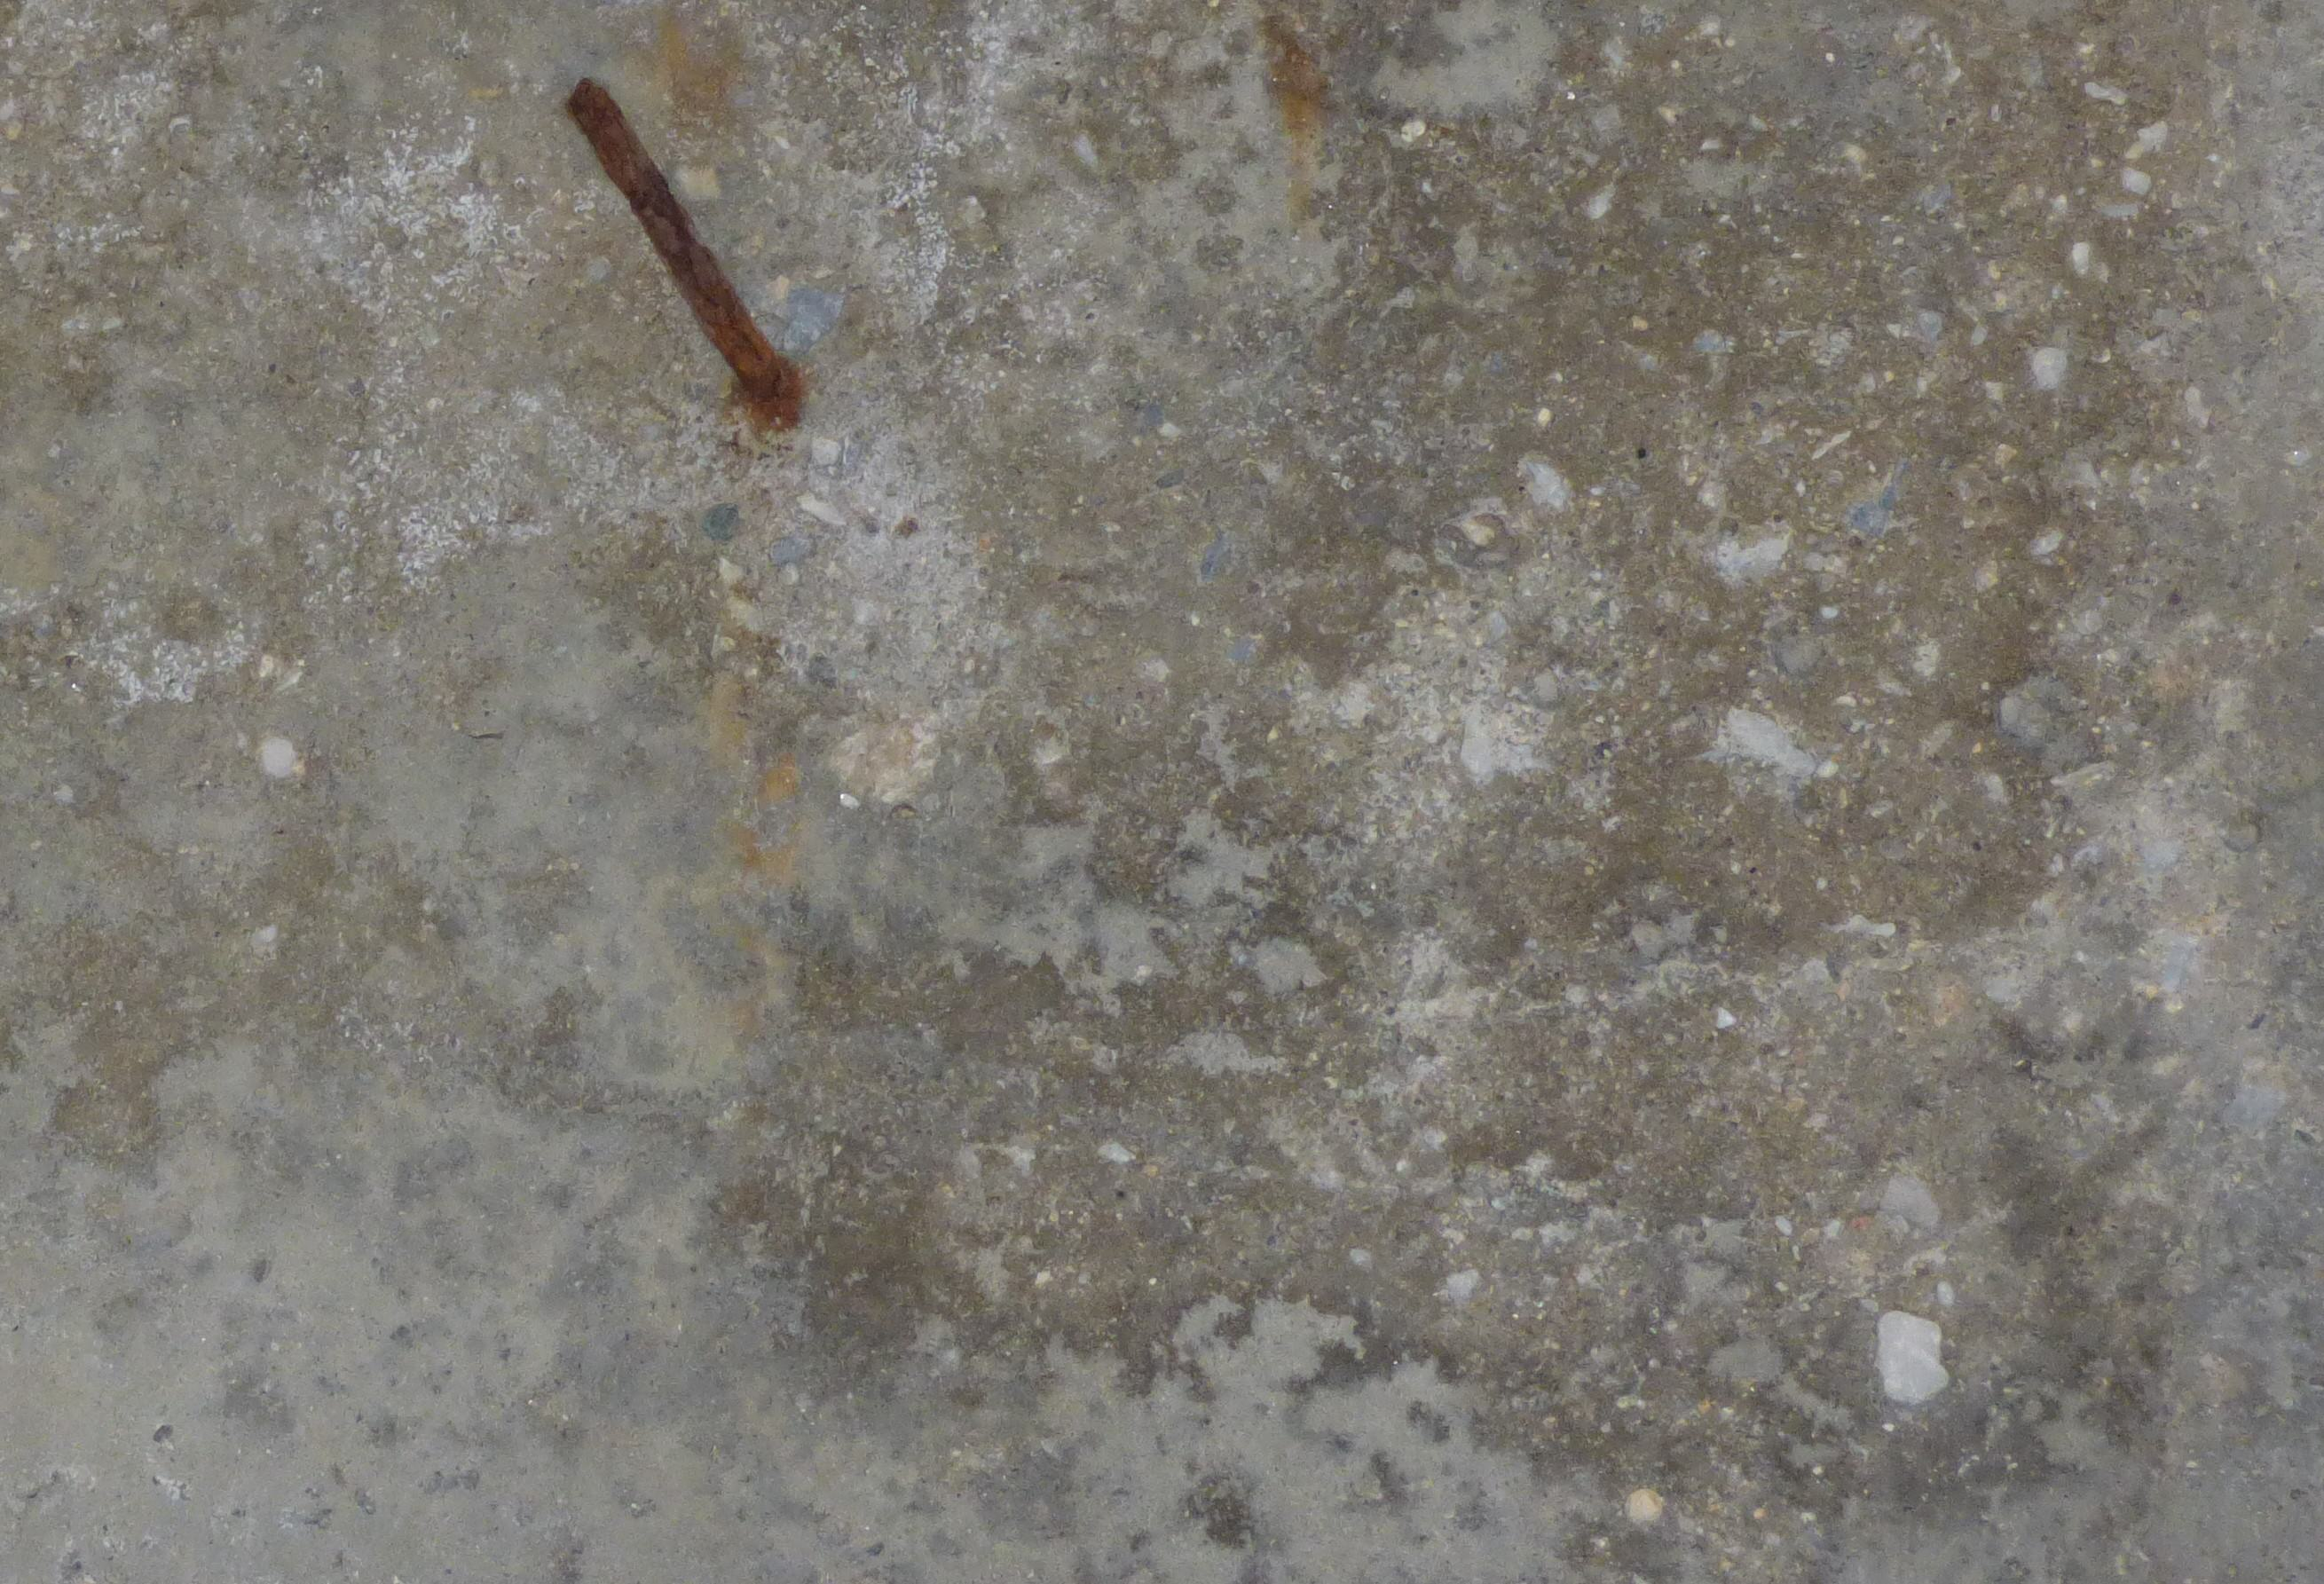Corrosion: (731, 355, 802, 433)
Exposed reinforcement: (565, 76, 781, 403)
